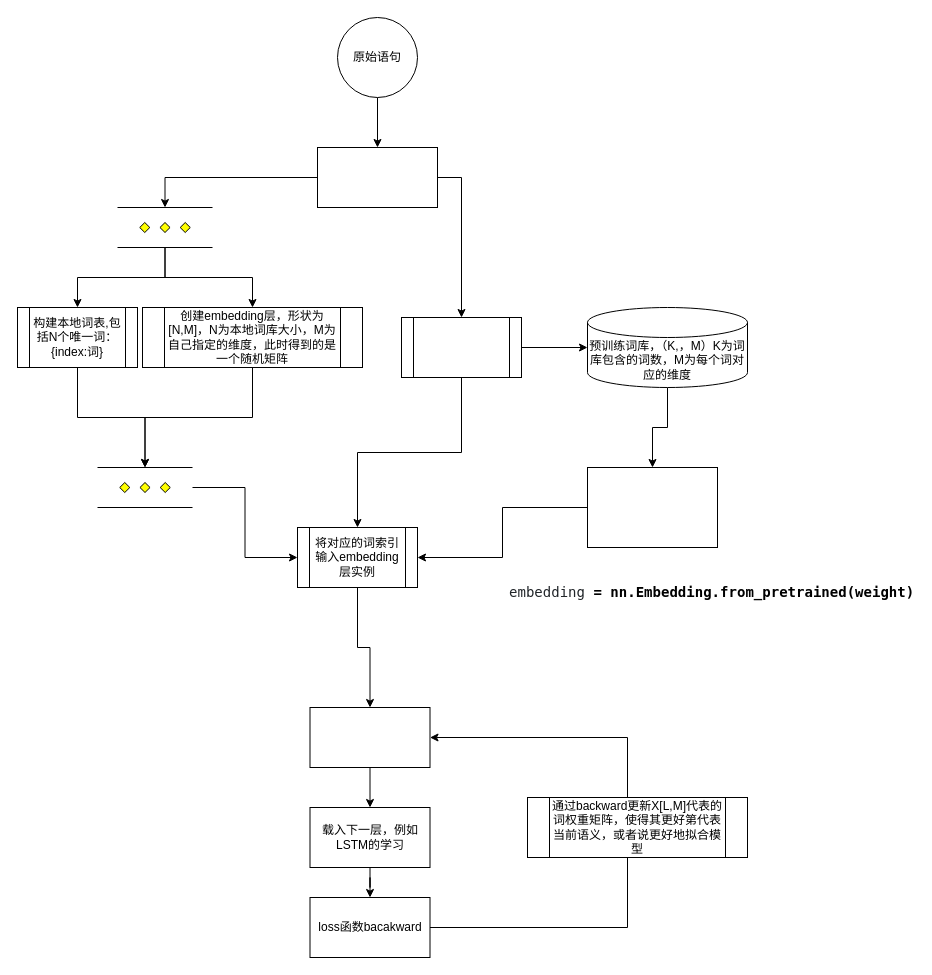
This 932x975 diagram has some shape labels left out. Here are the shapes that lost their labels. From the top down, the centre of each, then its label:
pixel 377 177: 分词得到L个有序的词
pixel 461 347: 查询对应本地词在预训练词库中对应的索引{index:词}
pixel 652 507: 创建embeddign层生成对应矩阵(K,M)，载入预训练词库其中M为输出维度
pixel 369 737: 输出对应的矩阵X[L,M]其中L是原始文档的词序，M为自建或者预训练词库的维度
